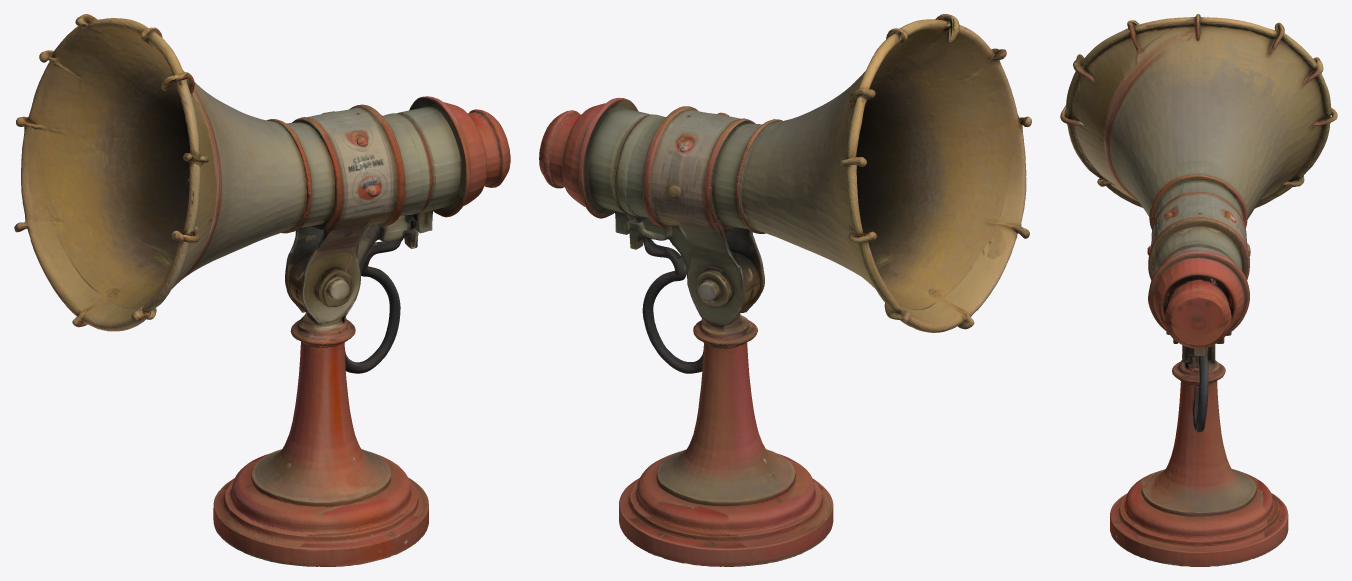
The model's file is Train_Station_Megapho_0425122532_texture.fbx.
The picture shows the model from 3 angles, left to right: view 1: azimuth 30°, elevation 25°; view 2: azimuth 150°, elevation 25°; view 3: azimuth 270°, elevation 25°; orthographic projection. The views are drawn at different scales.
Visible parts, largest first — view 1: temp; view 2: temp; view 3: temp.
Boxes of the visible parts, <box> form: temp: <box>14,14,510,566</box>; temp: <box>539,14,1031,566</box>; temp: <box>1060,14,1337,566</box>.
Size of the model in its own units: 164 by 200 by 113.
Materials: 1 (1 with a texture image).
